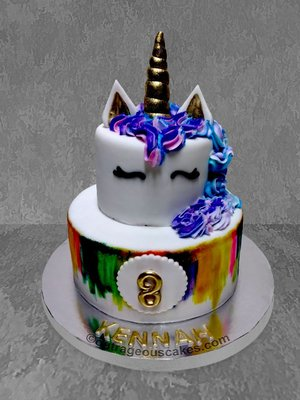sushi: (64, 67, 244, 325)
